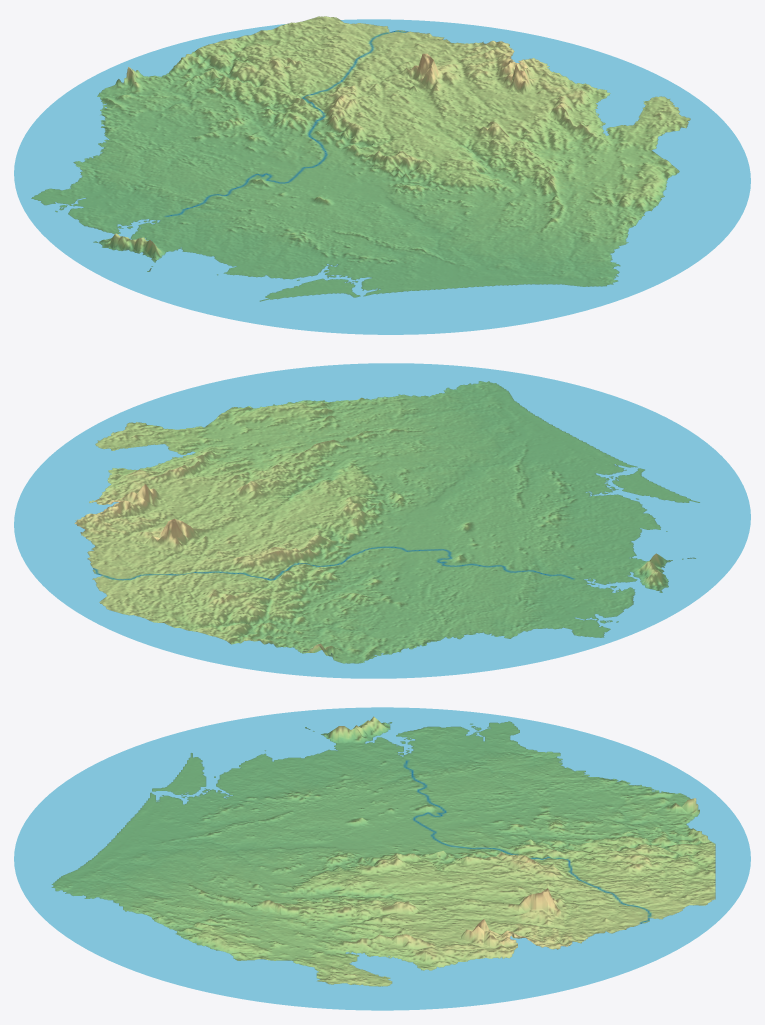
The model's file is SLE-terrain.glb.
3 renders of one model, top to bottom at view 1: azimuth 30°, elevation 25°; view 2: azimuth 150°, elevation 25°; view 3: azimuth 270°, elevation 25°, orthographic. The views are drawn at different scales.
Visible parts, largest first — view 1: Relevo com hidrografia; view 2: Relevo com hidrografia; view 3: Relevo com hidrografia.
Part boxes in pixels (x1,y1,x2,y2): Relevo com hidrografia: (14, 16, 750, 334); Relevo com hidrografia: (14, 363, 750, 678); Relevo com hidrografia: (14, 707, 750, 1010).
Bounding box in the file's own units: 1.74 × 0.0819 × 1.79.
2 materials, 1 textured.
